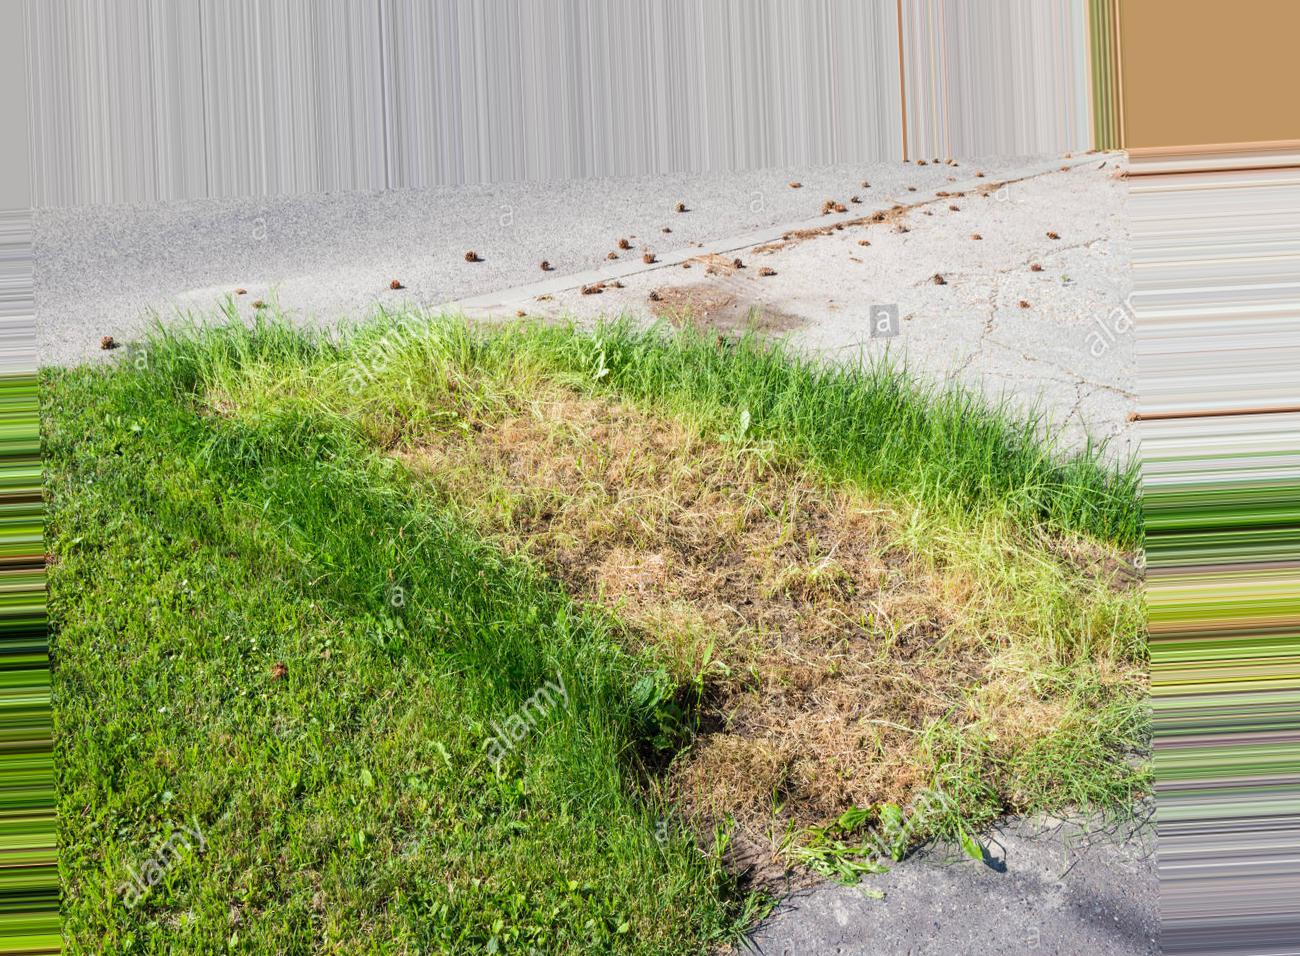patch: (533, 421, 805, 608), (759, 630, 946, 754)
